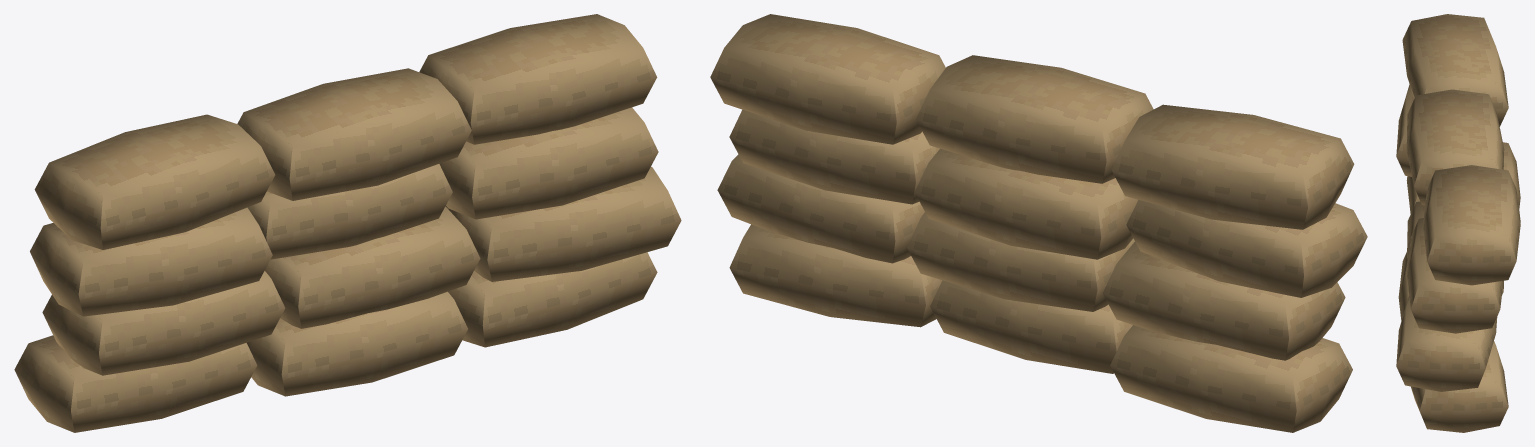
The model's file is sandbags_high.glb.
3 views of the same model, side by side, from view 1: azimuth 30°, elevation 25°; view 2: azimuth 150°, elevation 25°; view 3: azimuth 270°, elevation 25° (orthographic). The views are drawn at different scales.
Parts seen in each view (by area): view 1: sandbags_high; view 2: sandbags_high; view 3: sandbags_high.
Boxes of the visible parts, x1,y1,x2,y2 form: sandbags_high: (14,14,681,432); sandbags_high: (710,14,1367,432); sandbags_high: (1396,14,1520,432).
Size of the model in its own units: 2.12 by 0.8906 by 0.4777.
Materials: 1 (1 with a texture image).
